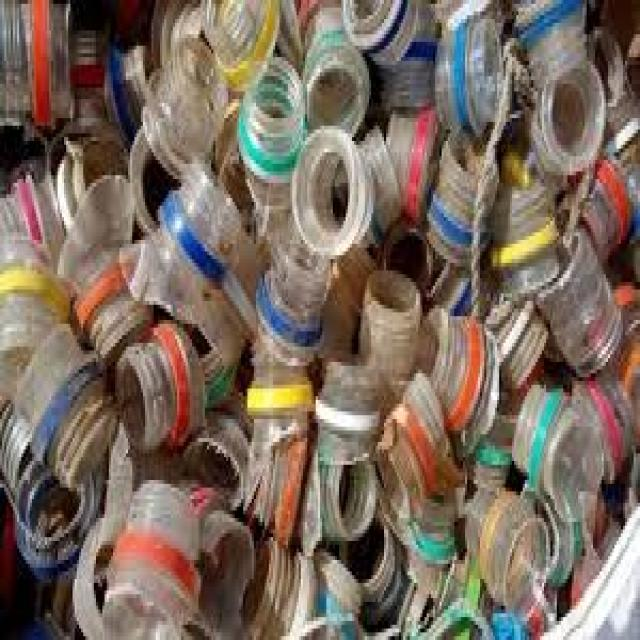plastic: (0, 0, 638, 636), (115, 156, 241, 362), (0, 347, 96, 572), (56, 168, 152, 354), (11, 317, 111, 492), (226, 328, 307, 541), (100, 473, 203, 637), (371, 358, 457, 533), (139, 34, 230, 179), (535, 225, 621, 370), (508, 377, 599, 514), (544, 503, 636, 636), (111, 316, 205, 442), (420, 301, 497, 446), (463, 480, 548, 610), (290, 122, 373, 251), (0, 0, 72, 133), (105, 416, 186, 534), (424, 126, 493, 263), (527, 54, 604, 176), (254, 232, 326, 362), (235, 49, 301, 183), (333, 514, 405, 636), (299, 0, 361, 141), (433, 8, 501, 133), (489, 176, 561, 294), (194, 495, 254, 636), (201, 0, 297, 88), (519, 476, 585, 591), (380, 473, 452, 576), (354, 263, 420, 373), (247, 534, 316, 637), (0, 164, 62, 278), (177, 400, 243, 507), (312, 347, 376, 457), (310, 442, 374, 545), (570, 370, 632, 476), (599, 274, 638, 442), (73, 499, 120, 636), (373, 0, 433, 107), (320, 248, 375, 358), (237, 195, 296, 294), (384, 103, 437, 213), (207, 225, 262, 331), (482, 293, 544, 381), (507, 0, 582, 72), (197, 339, 248, 442), (60, 23, 105, 133), (403, 541, 478, 606), (312, 537, 361, 636), (105, 38, 150, 145), (576, 160, 627, 251), (380, 217, 431, 305), (150, 0, 214, 61), (461, 408, 510, 480), (24, 564, 73, 636), (403, 591, 476, 636), (584, 23, 623, 107), (601, 80, 638, 164), (608, 149, 638, 240), (478, 598, 525, 636), (599, 477, 621, 534), (625, 15, 638, 84)
